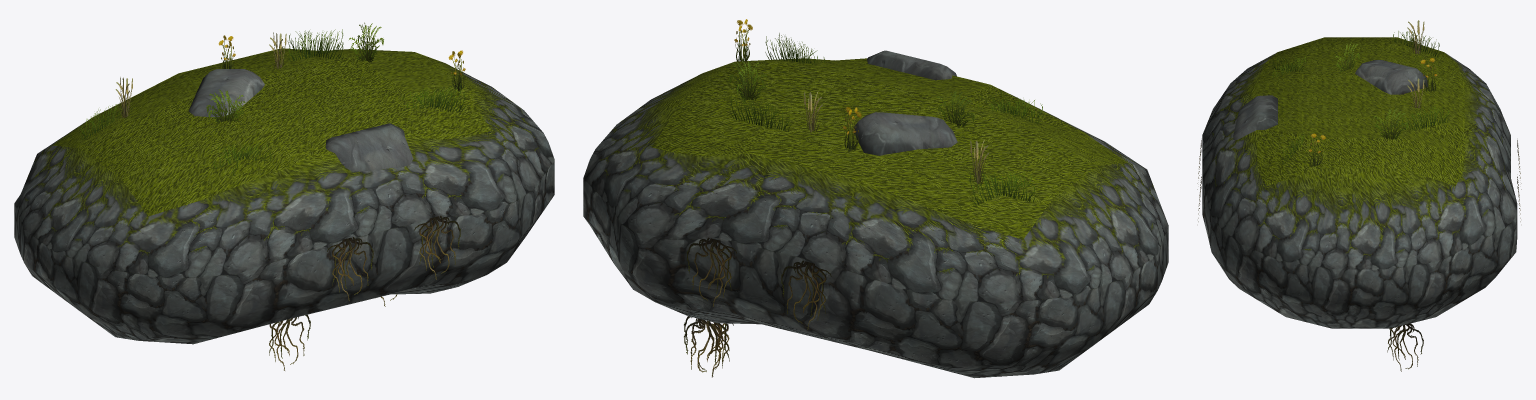
File: platform2_floating_island2.fbx
3 views of the same model, side by side, from view 1: azimuth 30°, elevation 25°; view 2: azimuth 150°, elevation 25°; view 3: azimuth 270°, elevation 25° (orthographic). The views are drawn at different scales.
Parts seen in each view (by area): view 1: platform2_floating_island2_Layer1, grass; view 2: platform2_floating_island2_Layer1, grass; view 3: platform2_floating_island2_Layer1, grass.
Part boxes in pixels (left/top/right/bottom): platform2_floating_island2_Layer1: left=14, top=48, right=554, bottom=344; grass: left=80, top=22, right=465, bottom=370; platform2_floating_island2_Layer1: left=583, top=50, right=1168, bottom=378; grass: left=684, top=19, right=1044, bottom=377; platform2_floating_island2_Layer1: left=1202, top=37, right=1517, bottom=328; grass: left=1197, top=20, right=1521, bottom=371.
Size of the model in its own units: 10.3 by 6.01 by 6.92.
